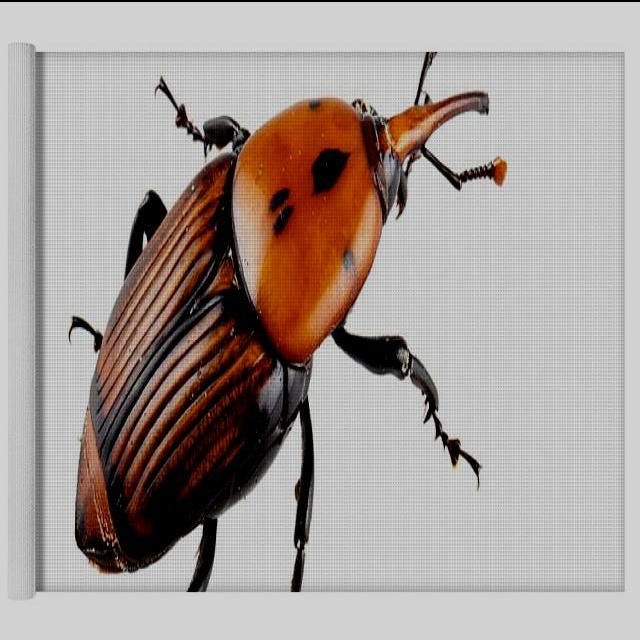Red-palm-weevil: (66, 53, 510, 578)
